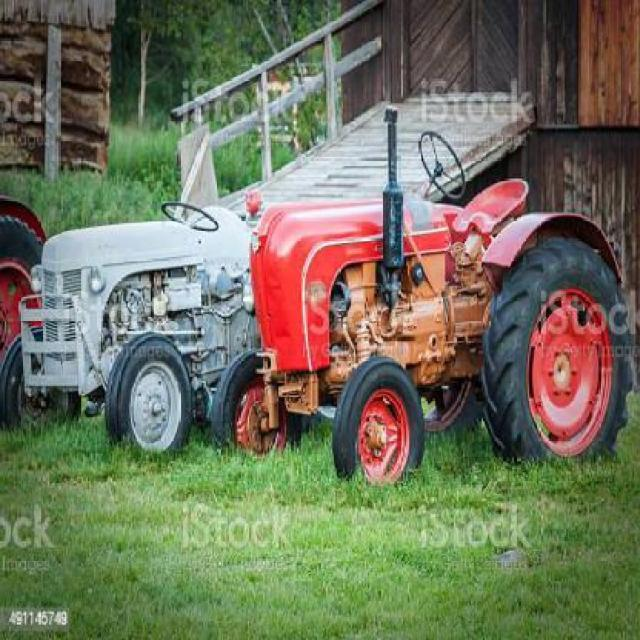Tratores - v5 YOLO V8L 2024-11-13: (206, 78, 639, 536), (9, 143, 226, 543)
